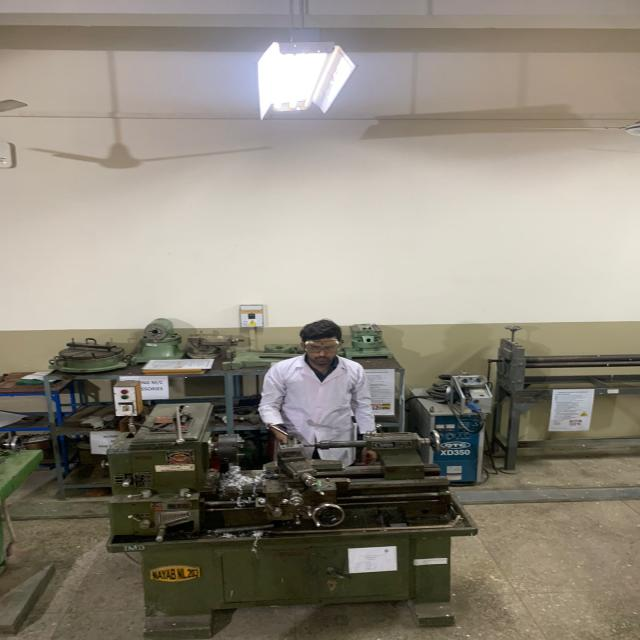googles: (302, 336, 342, 355)
labcoat: (256, 351, 378, 468)
